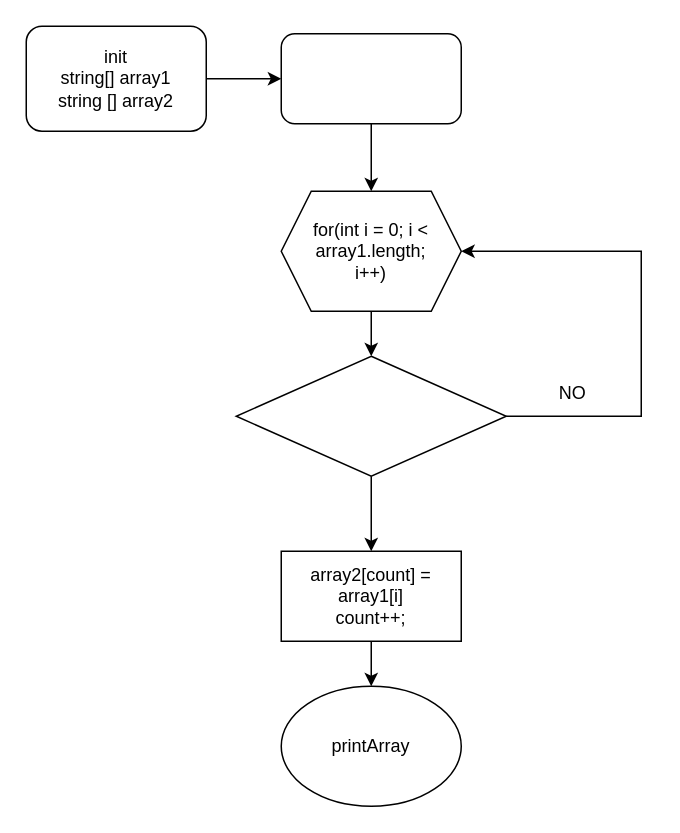
The diagram is 680 pixels wide and 833 high, and some of its shapes have lost their labels. Here are the shapes that lost their labels. From the top down, the centre of each, then its label:
At point (370, 78): "void Metamorphose".
At point (370, 415): "(array1[i].length < 3 ?".
